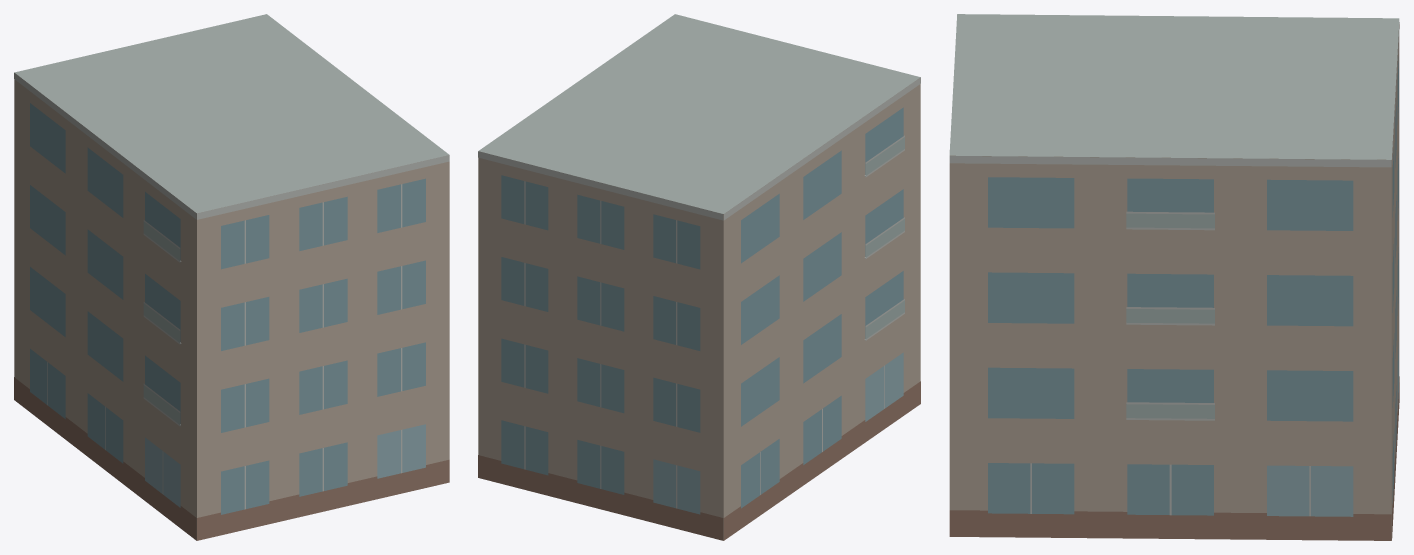
Rendered from residential-b878a344-27bd-4aef-b5c6-719dfd7c4554.glb.
3 views of the same model, side by side, from view 1: azimuth 30°, elevation 25°; view 2: azimuth 150°, elevation 25°; view 3: azimuth 270°, elevation 25° (orthographic). The views are drawn at different scales.
Visible parts, largest first — view 1: residential-b878a344-27bd-4aef-b5c6-719dfd7c4554.tmp; view 2: residential-b878a344-27bd-4aef-b5c6-719dfd7c4554.tmp; view 3: residential-b878a344-27bd-4aef-b5c6-719dfd7c4554.tmp.
Boxes of the visible parts, bbox=[...] form: residential-b878a344-27bd-4aef-b5c6-719dfd7c4554.tmp: bbox=[14, 14, 449, 540]; residential-b878a344-27bd-4aef-b5c6-719dfd7c4554.tmp: bbox=[478, 14, 920, 540]; residential-b878a344-27bd-4aef-b5c6-719dfd7c4554.tmp: bbox=[949, 14, 1399, 540].
Size of the model in its own units: 10.03 by 12.2 by 13.07.
